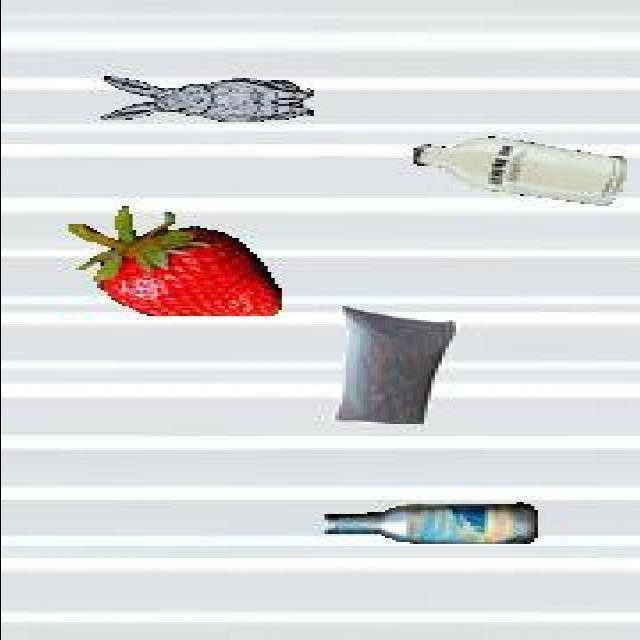Other Objects: (406, 136, 626, 207), (332, 302, 454, 426), (318, 501, 541, 546)
